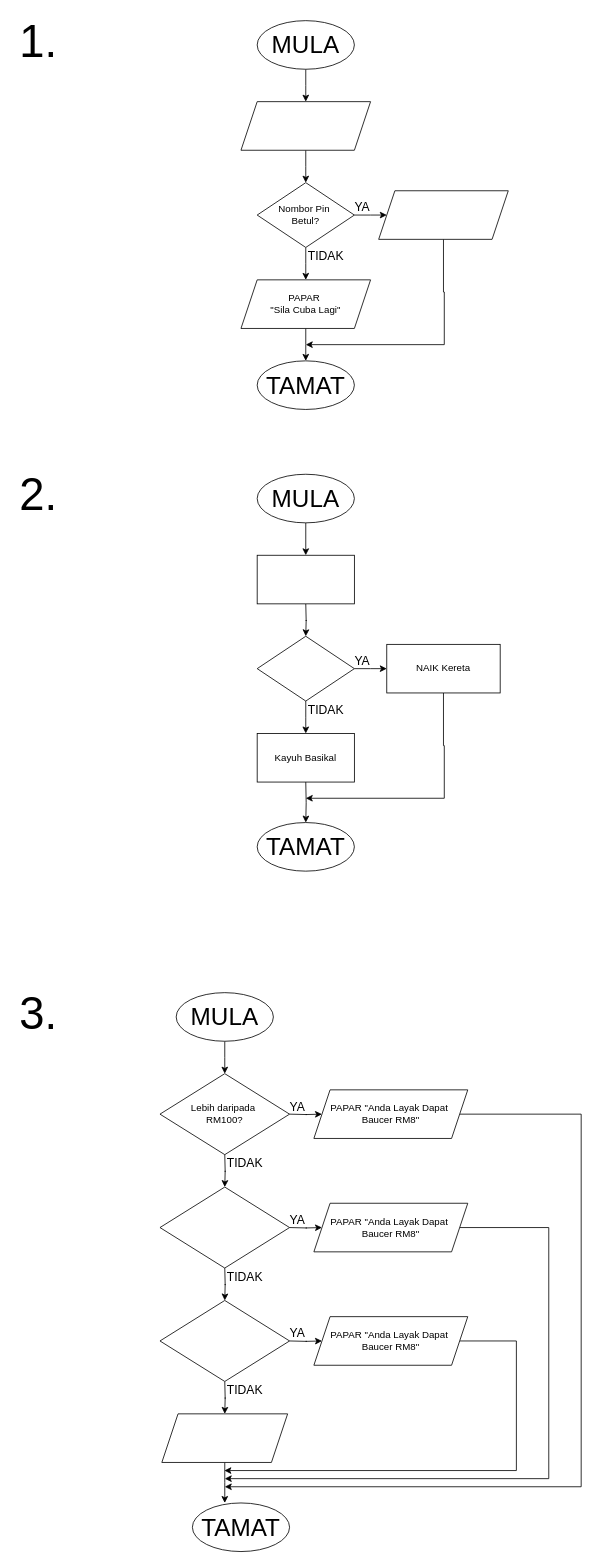
This 602x1566 diagram has some shape labels left out. The shapes that lost their labels are listed below. From the top down, each one's centre as x and y in pixels, then its label:
the point at 305,125: MASUKKAN Nombor Pin
the point at 443,214: PAPAR "Akses Diterima"
the point at 305,579: BERSIAP Untuk ke Sekolah
the point at 305,668: Hujan?
the point at 224,1227: Lebih daripada RM50?
the point at 224,1340: Lebih daripada RM30?
the point at 224,1437: PAPAR "Tiada Baucer"
